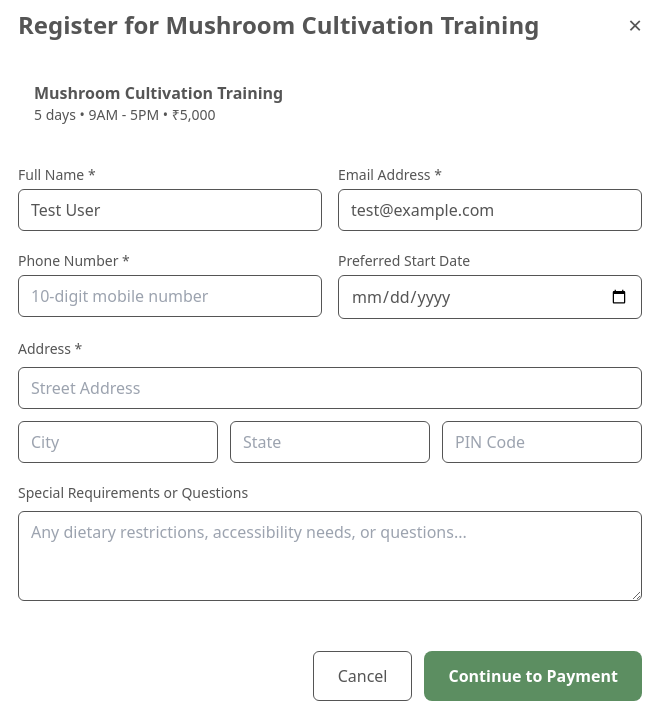
RegistrationModal Validation › only allows digits in phone field
In the field with placeholder "10-digit mobile number": [170, 296] box [18,275,322,317], type "abc9876xyz"
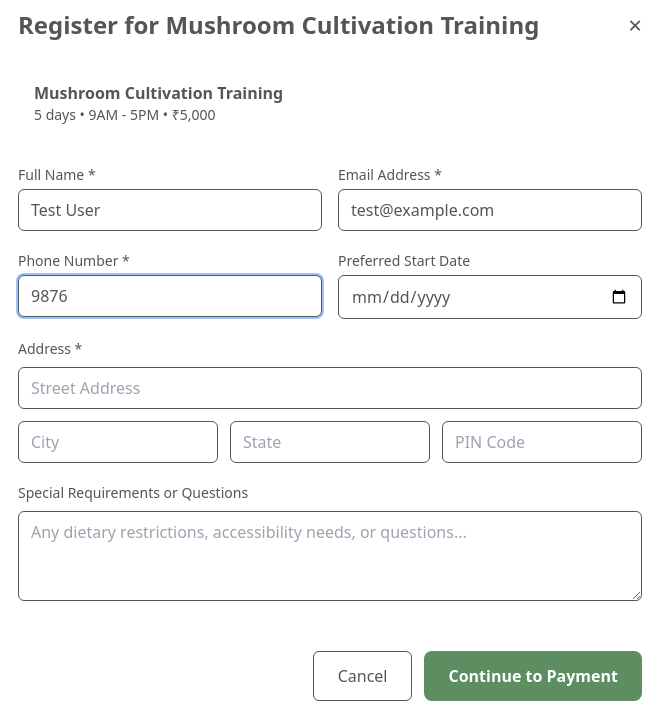
Now the field with placeholder "10-digit mobile number" below "Phone Number *" holds "9876", box [18,275,322,317]
